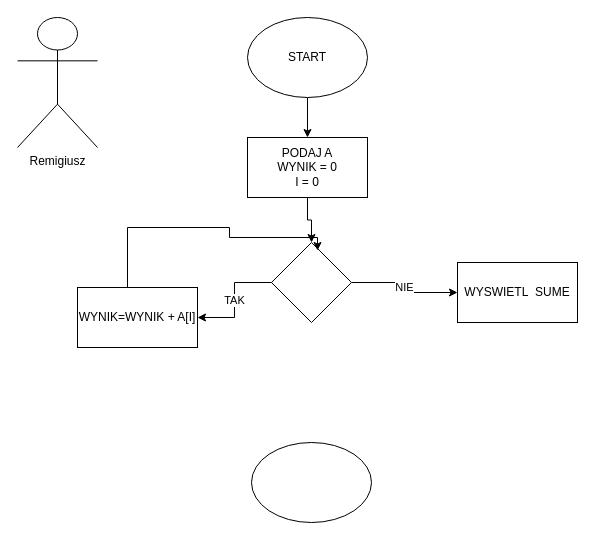
Image size: 595x540. Some labels were removed from this diagram. The centre of each missing label's shape, as x and y in pixels:
"I<długość A" goes at (x=311, y=282).
"STOP" goes at (x=311, y=482).
